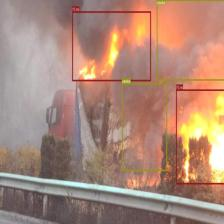fire: (72, 11, 151, 81), (175, 89, 224, 184)
smoke: (156, 0, 224, 80), (122, 83, 167, 171)
